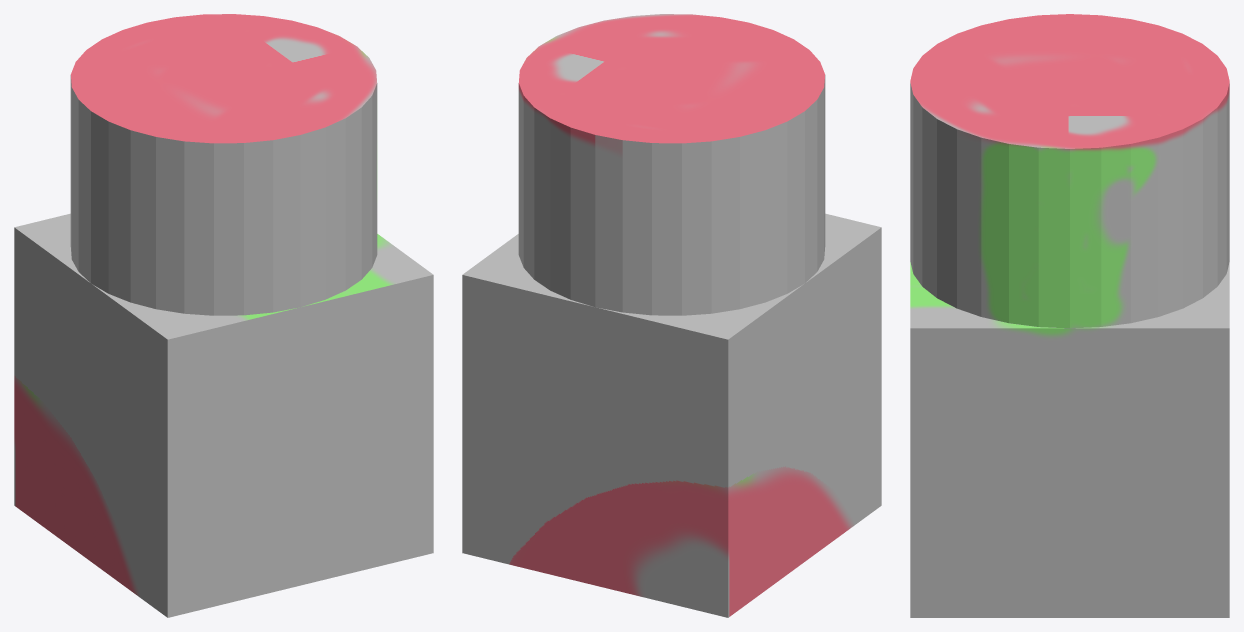
File: koelaatikko.gltf
The picture shows the model from 3 angles, left to right: view 1: azimuth 30°, elevation 25°; view 2: azimuth 150°, elevation 25°; view 3: azimuth 270°, elevation 25°; orthographic projection. The views are drawn at different scales.
Parts seen in each view (by area): view 1: Cylinder; view 2: Cylinder; view 3: Cylinder.
Part boxes in pixels (left/top/right/bottom): Cylinder: left=14, top=14, right=433, bottom=617; Cylinder: left=462, top=14, right=881, bottom=617; Cylinder: left=910, top=14, right=1229, bottom=617.
Bounding box in the file's own units: 2 × 3.24 × 2.
1 material, 1 textured.
